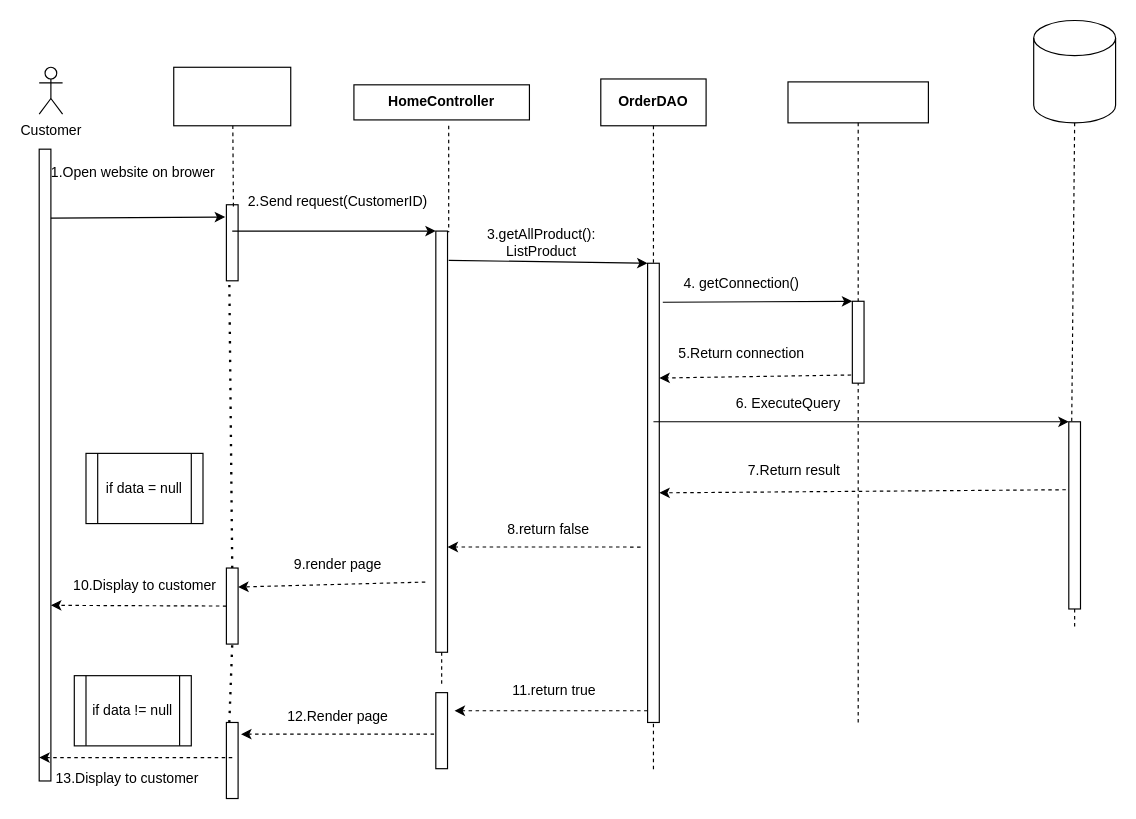
This 1136x819 diagram has some shape labels left out. The centre of each missing label's shape, as x and y in pixels:
Database: point (1074, 71)
DBContext: point (857, 102)
Home page: point (232, 96)
